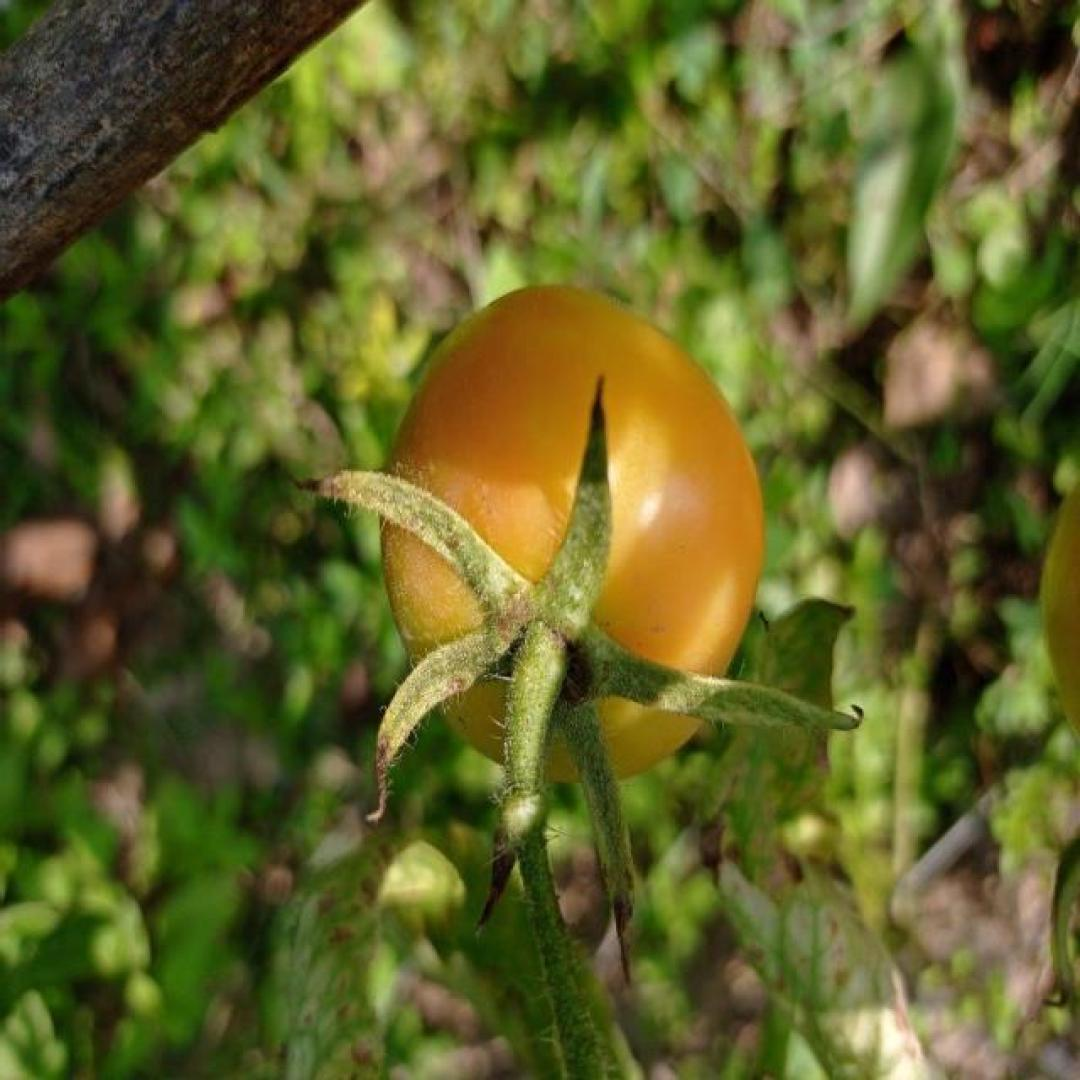setengah_matang: (378, 283, 768, 786)
